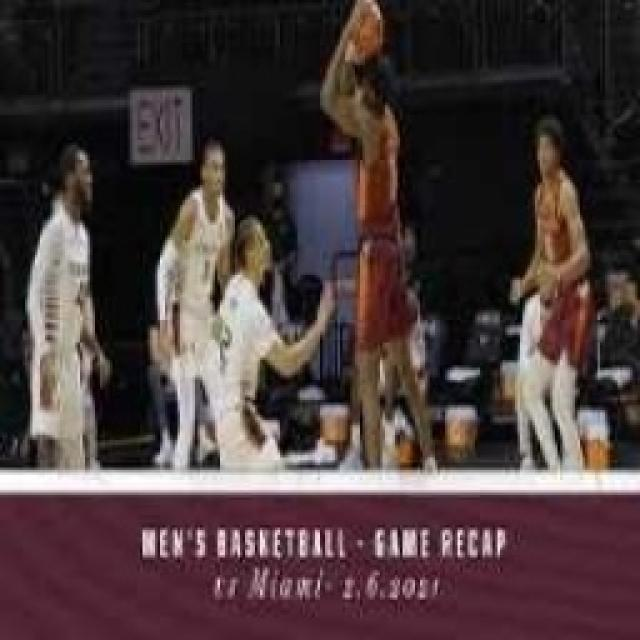rim: (342, 0, 390, 65)
